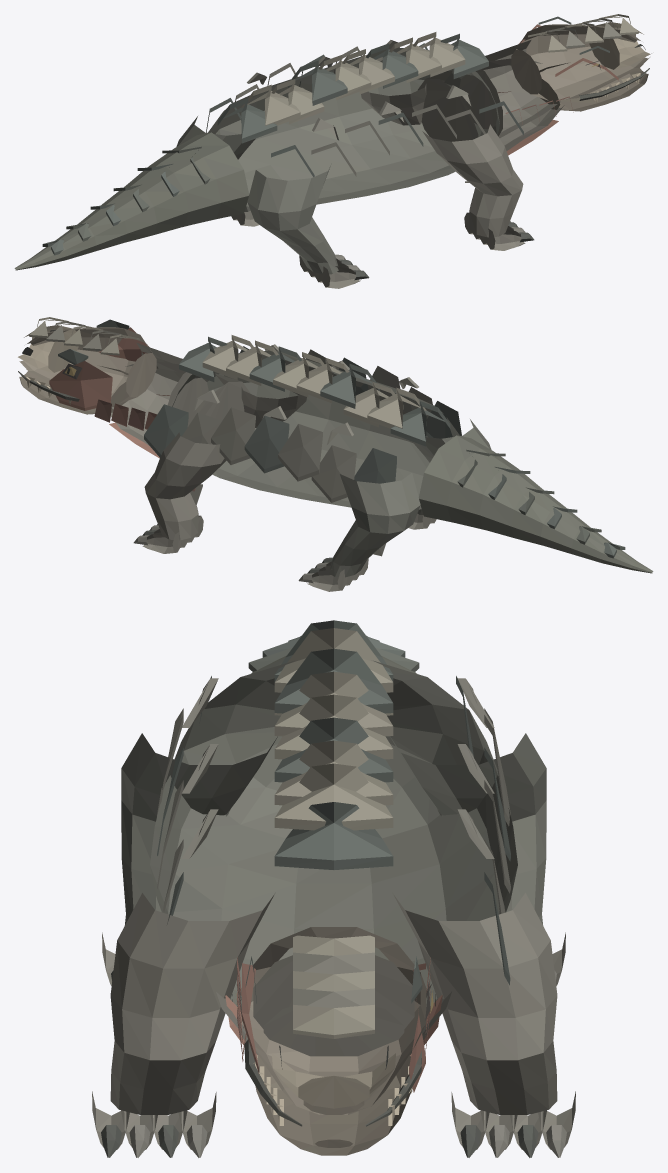
File: garruva-v03-anatomy-blockout.glb
The picture shows the model from 3 angles, top to bottom: view 1: azimuth 30°, elevation 25°; view 2: azimuth 150°, elevation 25°; view 3: azimuth 270°, elevation 25°; orthographic projection. The views are drawn at different scales.
Parts seen in each view (by area): view 1: Garruva_Faceted_Anatomy_v03; view 2: Garruva_Faceted_Anatomy_v03; view 3: Garruva_Faceted_Anatomy_v03.
Boxes of the visible parts, <box> form: Garruva_Faceted_Anatomy_v03: <box>14,14,651,288</box>; Garruva_Faceted_Anatomy_v03: <box>18,317,653,591</box>; Garruva_Faceted_Anatomy_v03: <box>92,620,575,1157</box>.
Bounding box in the file's own units: 3.76 × 1.03 × 1.25.
